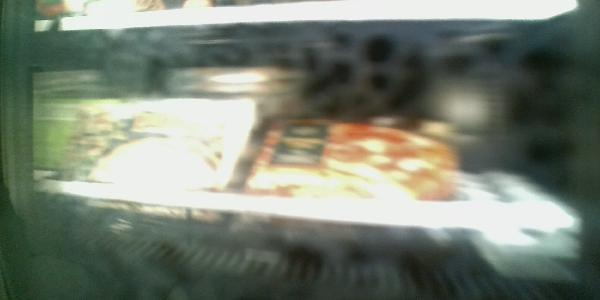pizza: (246, 116, 462, 211), (77, 99, 251, 199)
pizza1: (162, 66, 306, 100)
